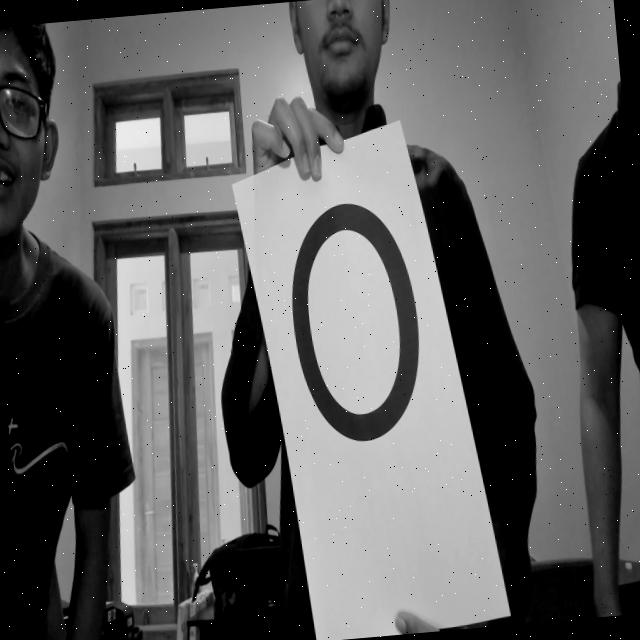o: (271, 180, 450, 474)
